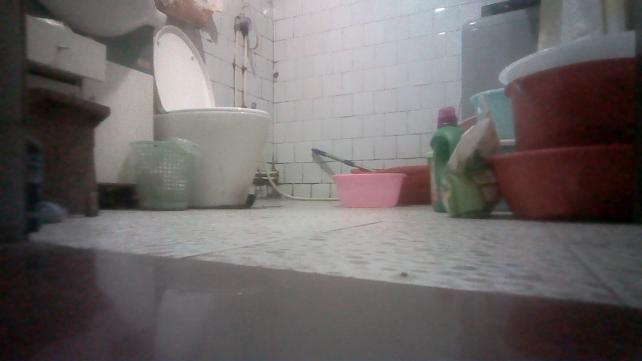toilet: (142, 32, 272, 208)
